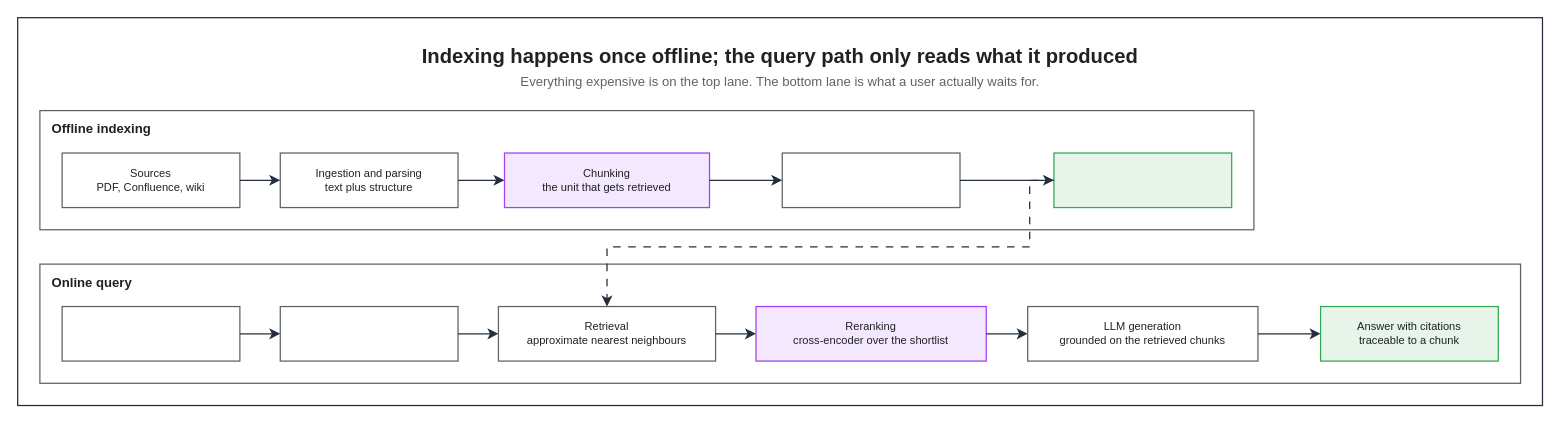
Image size: 1560x424. Some labels were removed from this diagram. The shapes that lost their labels are listed below. From the top down, each one's centre as x and y in pixels, then its label:
[870,180]: Embedding one vector per chunk
[1142,180]: Vector index vectors plus metadata
[150,333]: User query natural language
[368,333]: Query embedding same model as indexing
